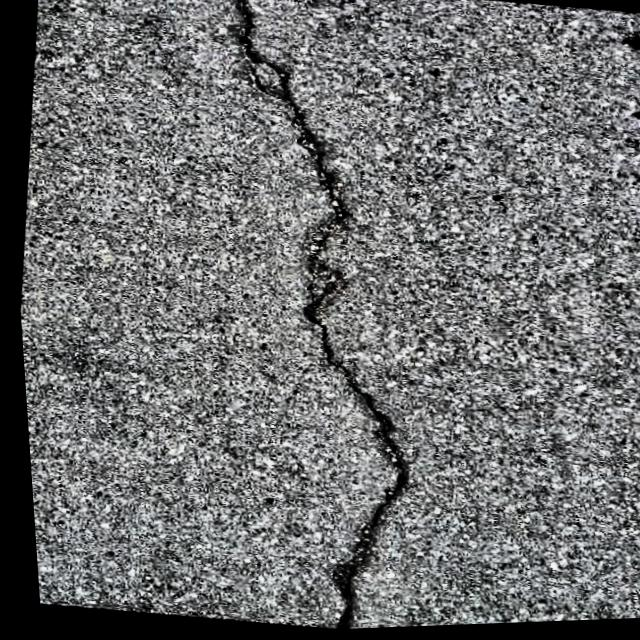cracks: (237, 0, 405, 629)
